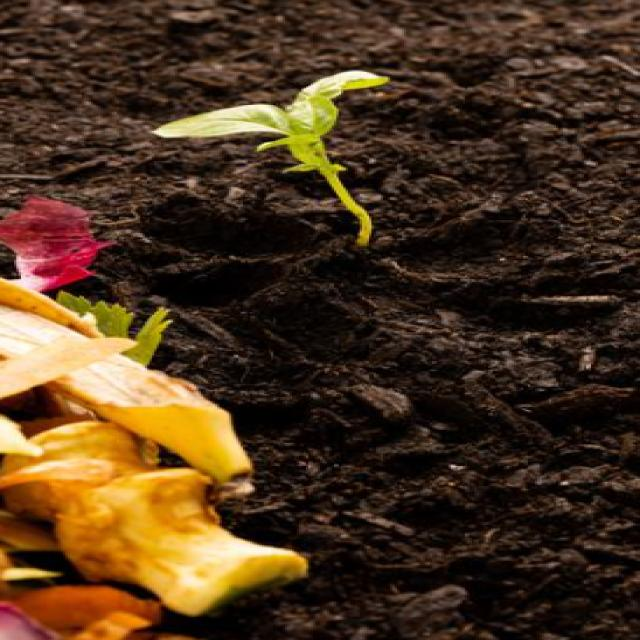paper: (0, 286, 302, 498), (130, 74, 454, 266), (50, 457, 336, 633)
